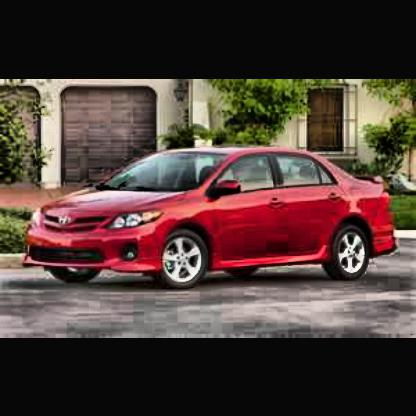Toyota Corolla Sedan 2012: (23, 142, 404, 297)
